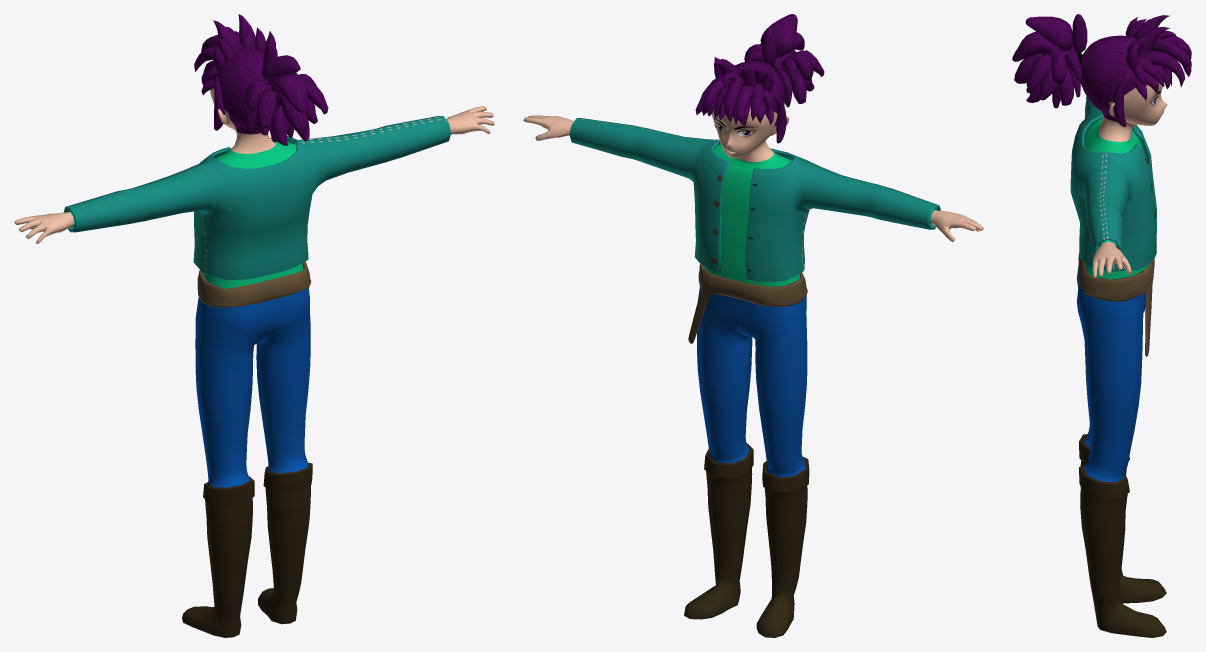
The picture shows the model from 3 angles, left to right: view 1: azimuth 30°, elevation 25°; view 2: azimuth 150°, elevation 25°; view 3: azimuth 270°, elevation 25°; orthographic projection. The views are drawn at different scales.
Visible parts, largest first — view 1: Cuerpo, Chaqueta, Cinturon, Pelo; view 2: Cuerpo, Chaqueta, Pelo, Cinturon; view 3: Cuerpo, Chaqueta, Pelo, Cinturon.
Boxes of the visible parts, x1,y1,x2,y2 form: Cuerpo: (14, 43, 494, 637); Chaqueta: (63, 116, 450, 280); Cinturon: (197, 261, 311, 307); Pelo: (194, 14, 275, 95); Cuerpo: (523, 14, 983, 637); Chaqueta: (569, 118, 940, 281); Pelo: (695, 57, 774, 126); Cinturon: (688, 263, 807, 343); Cuerpo: (1012, 14, 1167, 637); Chaqueta: (1070, 96, 1156, 271); Pelo: (1125, 15, 1191, 100); Cinturon: (1078, 253, 1154, 356).
Bounding box in the file's own units: 149 × 179 × 48.73.
Materials: 7 (7 with a texture image).
